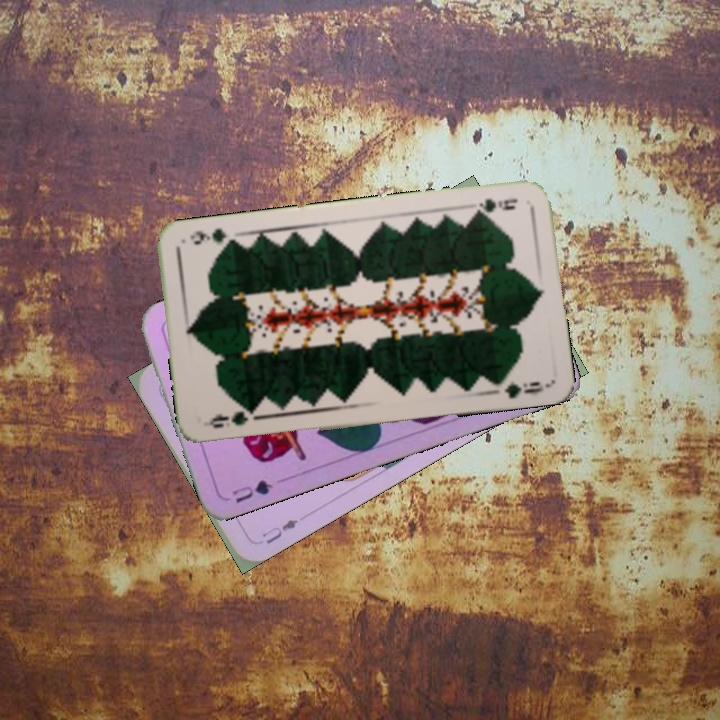EU: (258, 515, 301, 547)
G9: (201, 405, 261, 431), (468, 194, 520, 218)
GU: (228, 475, 275, 506)
